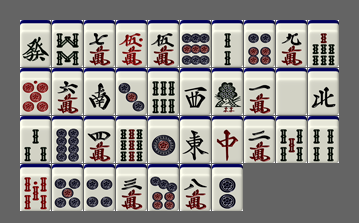0m: (116, 20, 147, 67)
0p: (20, 68, 51, 115)
0s: (20, 164, 51, 211)
1m: (244, 68, 275, 115)
1p: (148, 116, 179, 163)
1s: (212, 68, 243, 115)
1z: (180, 116, 211, 163)
2m: (244, 116, 275, 163)
2p: (212, 164, 243, 211)
2s: (212, 20, 243, 67)
2z: (84, 68, 115, 115)
3m: (116, 164, 147, 211)
3p: (116, 68, 147, 115)
3s: (20, 116, 51, 163)
3z: (180, 68, 211, 115)
4m: (84, 116, 115, 163)
4p: (84, 164, 115, 211)
4s: (308, 116, 339, 163)
4z: (308, 68, 339, 115)
5m: (148, 20, 179, 67)
5p: (52, 164, 83, 211)
5s: (276, 116, 307, 163)
5z: (276, 68, 307, 115)
6m: (52, 68, 83, 115)
6p: (244, 20, 275, 67)
6s: (148, 68, 179, 115)
6z: (20, 20, 51, 67)
7m: (84, 20, 115, 67)
7p: (148, 164, 179, 211)
7s: (308, 20, 339, 67)
7z: (212, 116, 243, 163)
8m: (180, 164, 211, 211)
8p: (52, 116, 83, 163)
8s: (52, 20, 83, 67)
9m: (276, 20, 307, 67)
9p: (180, 20, 211, 67)
9s: (116, 116, 147, 163)
